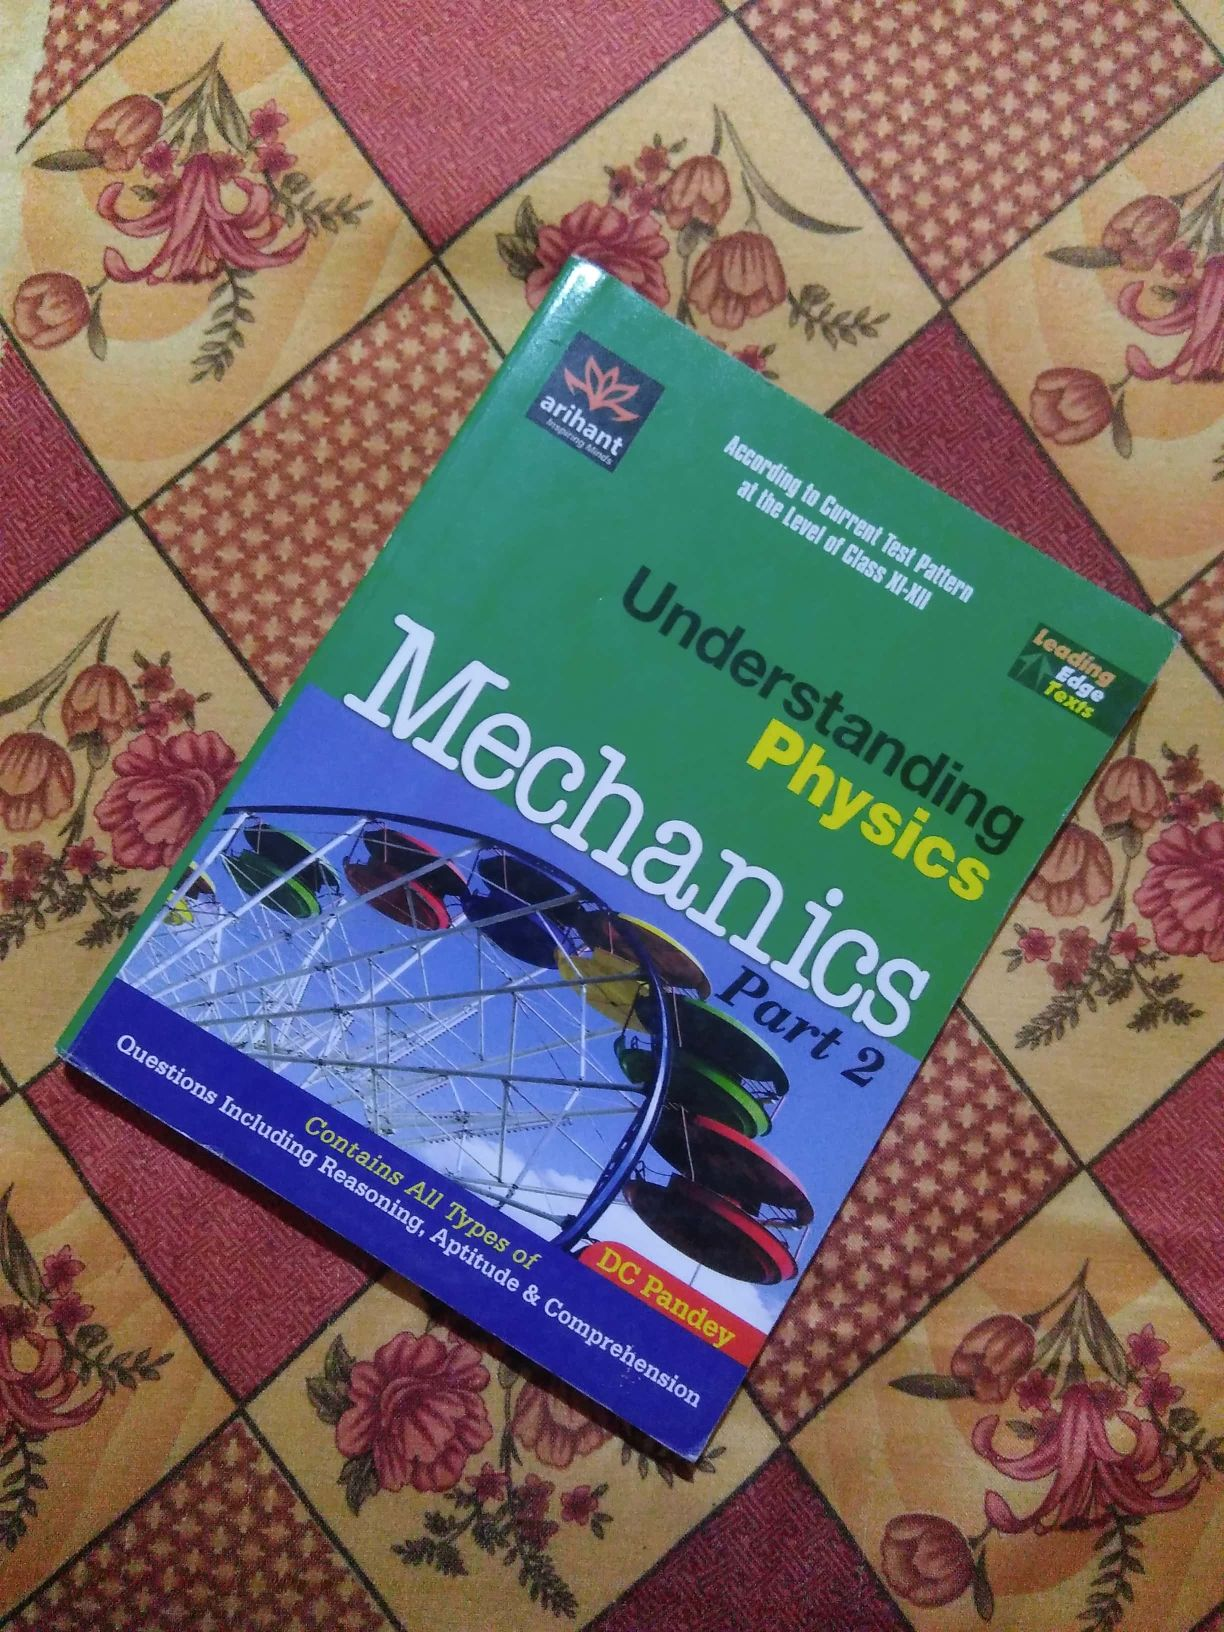mechanics: (166, 278, 1161, 1459)
